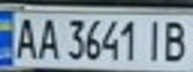1: (118, 17, 142, 62)
3: (63, 16, 87, 61)
4: (100, 17, 121, 62)
6: (81, 16, 103, 61)
A: (9, 14, 39, 61), (33, 15, 60, 61)
B: (160, 17, 193, 63)
I: (139, 16, 169, 63)
